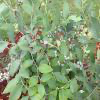Blueberry leaf: (0, 76, 21, 96), (52, 5, 63, 31), (88, 15, 99, 41), (51, 71, 70, 84), (6, 23, 16, 47), (83, 1, 95, 20), (10, 86, 26, 100), (37, 62, 53, 75), (11, 57, 23, 74), (62, 1, 71, 23), (60, 41, 71, 59), (74, 45, 83, 66), (27, 74, 40, 88), (69, 76, 79, 94), (73, 71, 88, 83), (42, 10, 50, 32), (45, 50, 62, 60), (21, 59, 34, 71), (84, 79, 96, 92), (30, 45, 44, 56), (16, 40, 30, 51), (18, 13, 25, 34), (41, 72, 53, 83), (58, 87, 69, 99), (35, 52, 45, 64), (70, 91, 82, 100)
